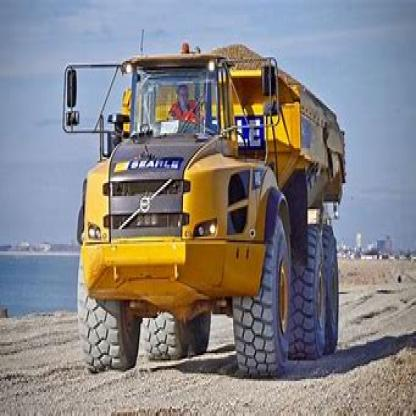dump_truck: (66, 33, 359, 381)
